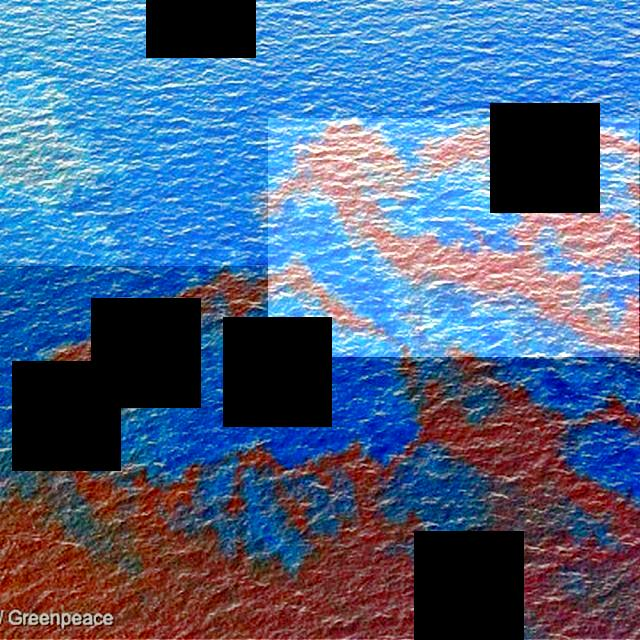oil spill: (0, 266, 640, 640), (268, 119, 640, 357)
